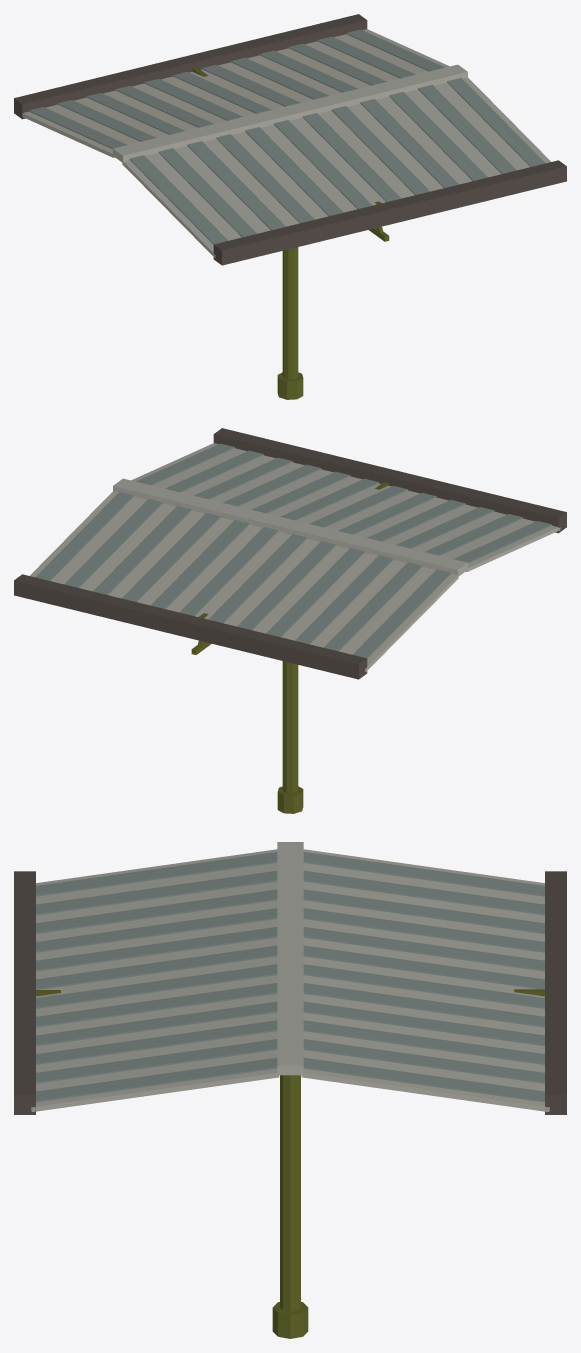
The model's file is SM_KitMarquesina_v2_LOD0.fbx.
3 renders of one model, top to bottom at view 1: azimuth 30°, elevation 25°; view 2: azimuth 150°, elevation 25°; view 3: azimuth 270°, elevation 25°, orthographic. The views are drawn at different scales.
Visible parts, largest first — view 1: SM_bloques.kit_marquesina_v2_LOD0; view 2: SM_bloques.kit_marquesina_v2_LOD0; view 3: SM_bloques.kit_marquesina_v2_LOD0.
Boxes of the visible parts, x1,y1,x2,y2 form: SM_bloques.kit_marquesina_v2_LOD0: (14,14,566,399); SM_bloques.kit_marquesina_v2_LOD0: (14,428,566,813); SM_bloques.kit_marquesina_v2_LOD0: (14,842,566,1338).
Size of the model in its own units: 5.98 by 4.71 by 6.25.
